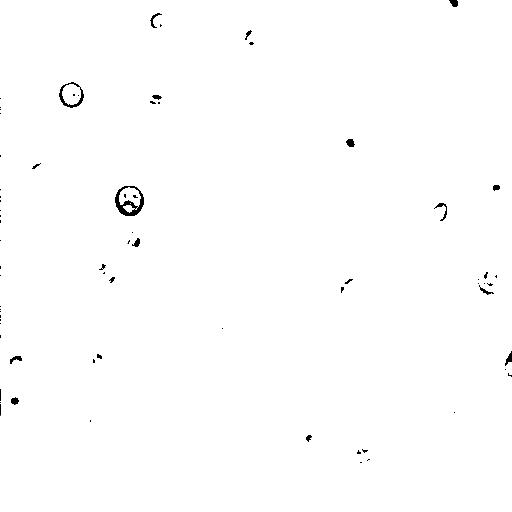micro-algae: (145, 8, 244, 103), (334, 123, 367, 160), (96, 265, 129, 297), (114, 185, 145, 217), (273, 85, 300, 119), (478, 263, 506, 294), (177, 37, 205, 65), (347, 441, 377, 467), (1, 385, 27, 412), (59, 82, 84, 109), (240, 26, 265, 52), (27, 160, 51, 187), (89, 347, 111, 375), (300, 427, 325, 451), (483, 177, 509, 199), (436, 0, 468, 17), (80, 406, 101, 431), (119, 229, 143, 250), (341, 276, 362, 299), (428, 201, 448, 223), (89, 258, 109, 277), (149, 10, 166, 31), (501, 350, 512, 379), (9, 353, 23, 369), (413, 0, 435, 8)
